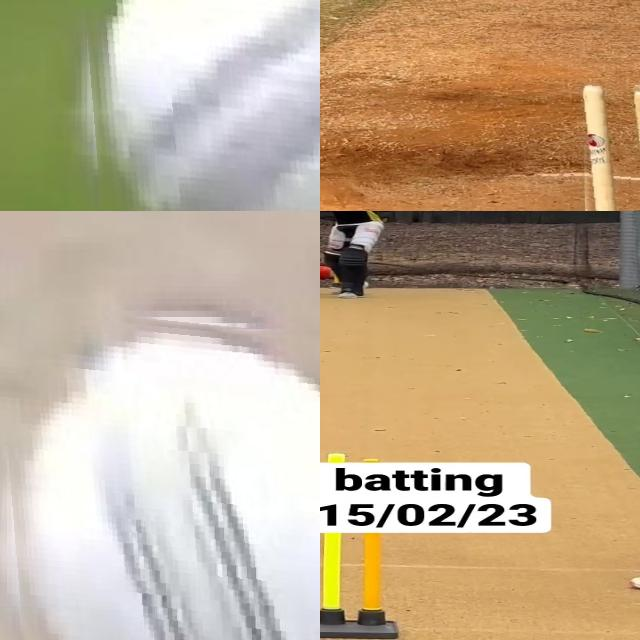Cricket ball: (0, 304, 320, 640), (73, 0, 320, 211)
Stumps: (575, 80, 640, 211), (320, 531, 394, 638)
